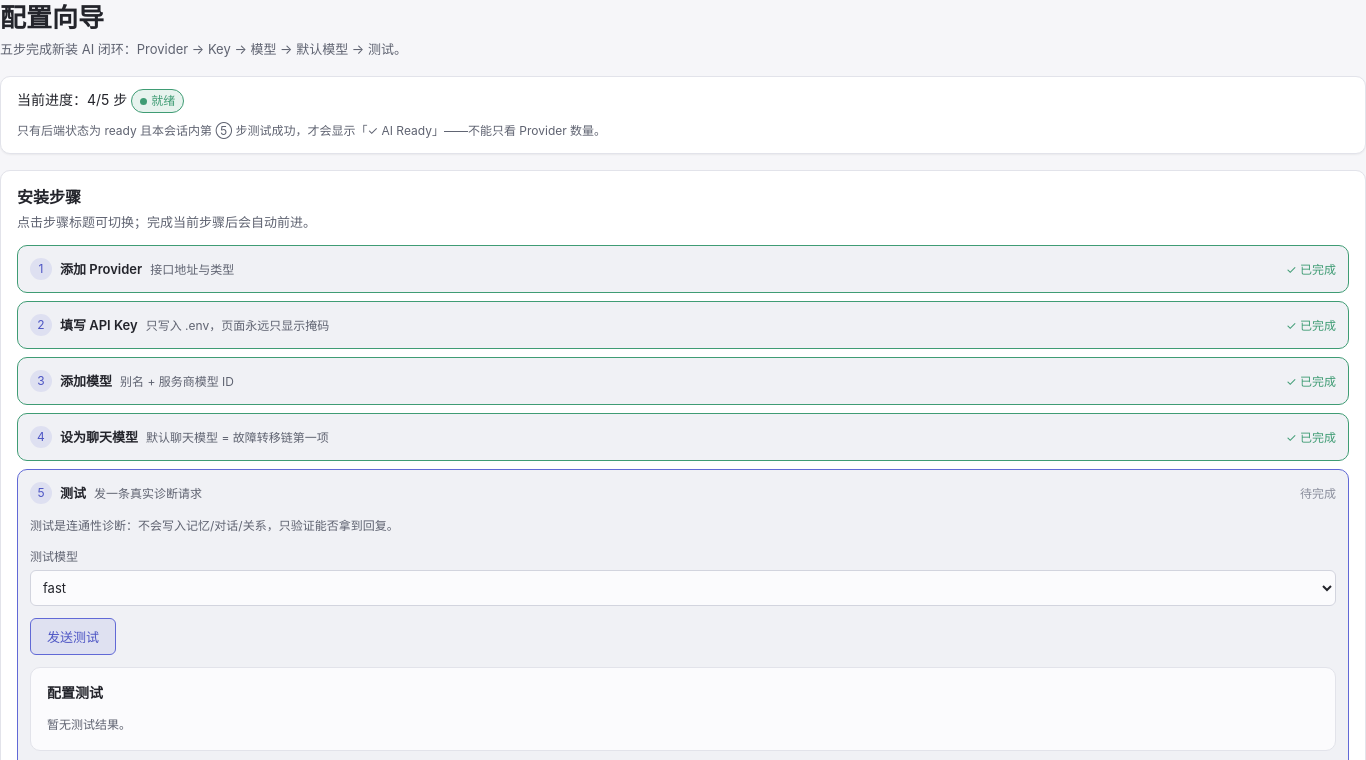
Test case: AiSetup › shows ✓ AI Ready only after ready status AND a successful test in this session
The width and height of the screenshot is (1366, 760).
expect the dropdown with test id "setup-test-model" shows "fast": met, box [30, 570, 1336, 606]
Click the button with test id "setup-run-test": [73, 637] box [30, 618, 116, 655]
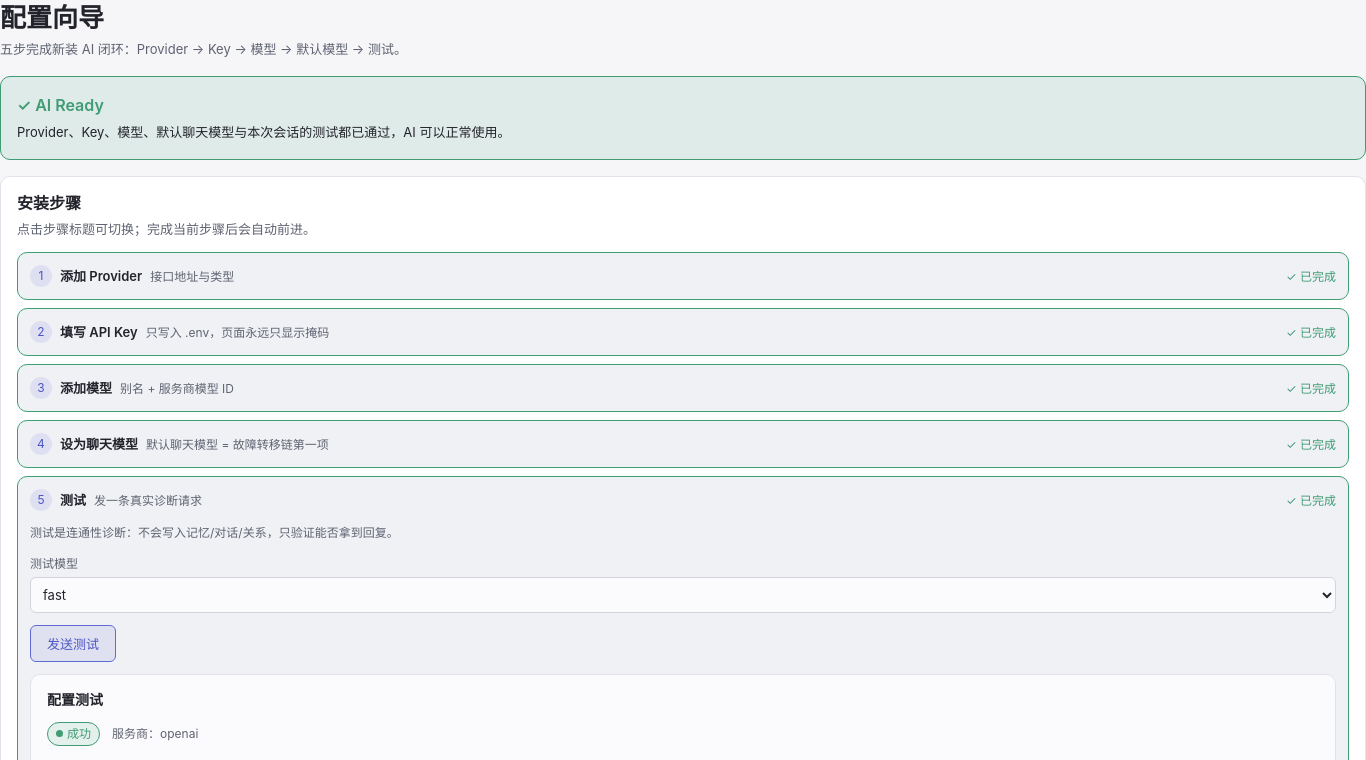
expect the message with test id "setup-ready" shows "✓ AI Ready": met, box [17, 95, 104, 115]
